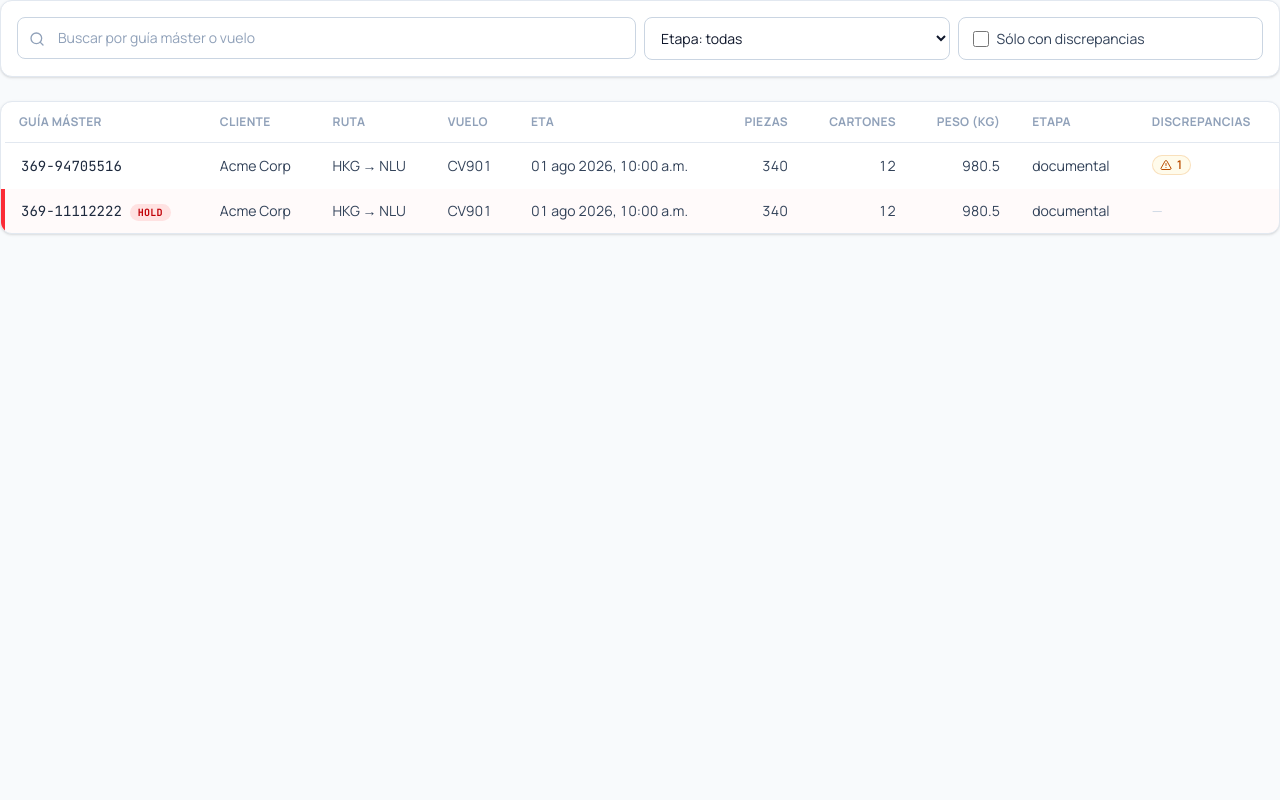
Scenario: PrealertasView › falls back to the raw code for an unknown parser-warning code
Click the text "369-94705516".
click(103, 166)  # box [3,142,204,188]
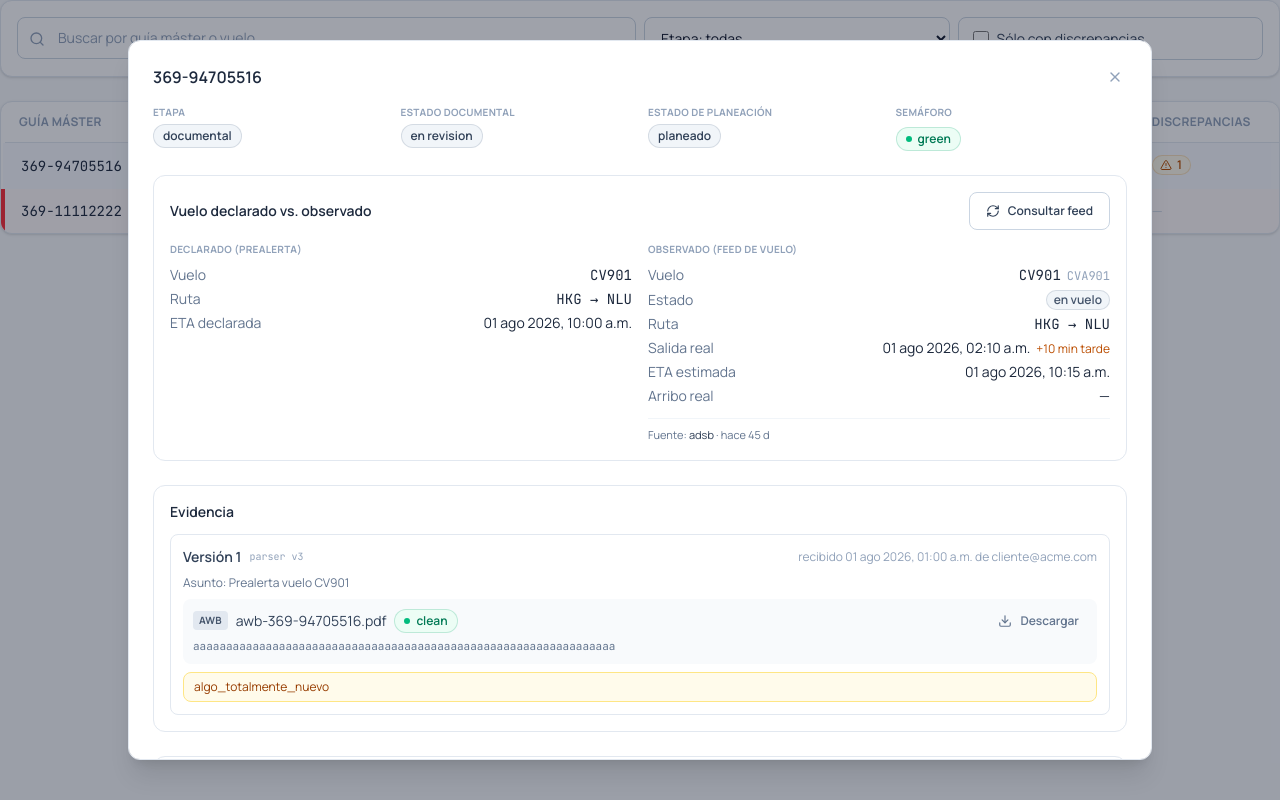
Expected: the text "algo_totalmente_nuevo" is shown, [183,672,1097,702]
